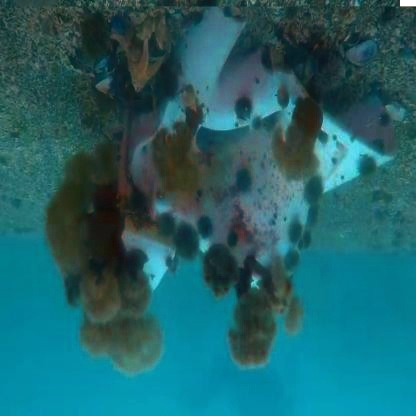misc: (98, 73, 317, 277)
